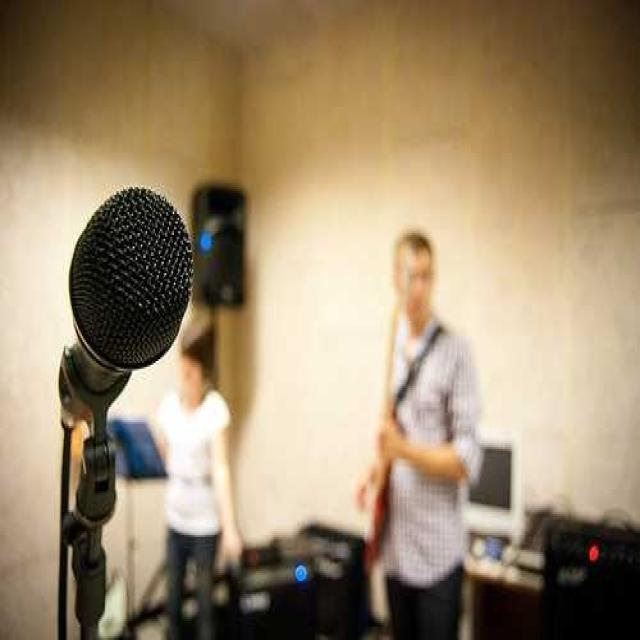microphone: (55, 182, 196, 459)
